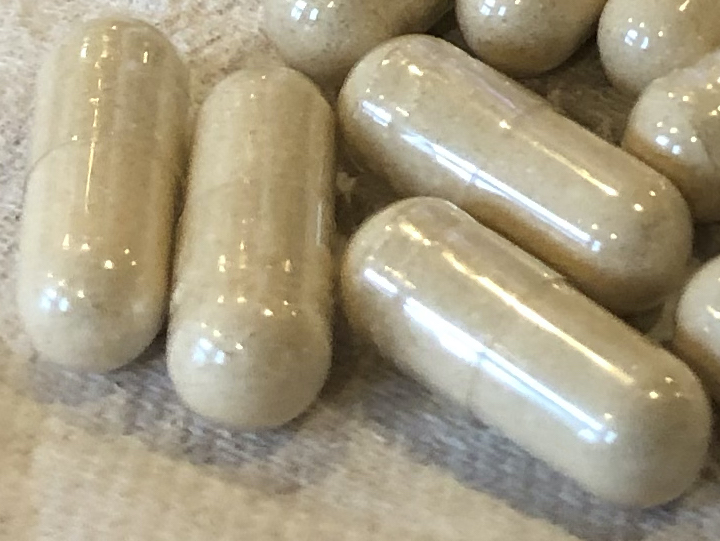capsule: (343, 196, 707, 521), (335, 33, 695, 315), (10, 14, 196, 376), (164, 64, 336, 432), (256, 1, 453, 76), (452, 1, 610, 77)
